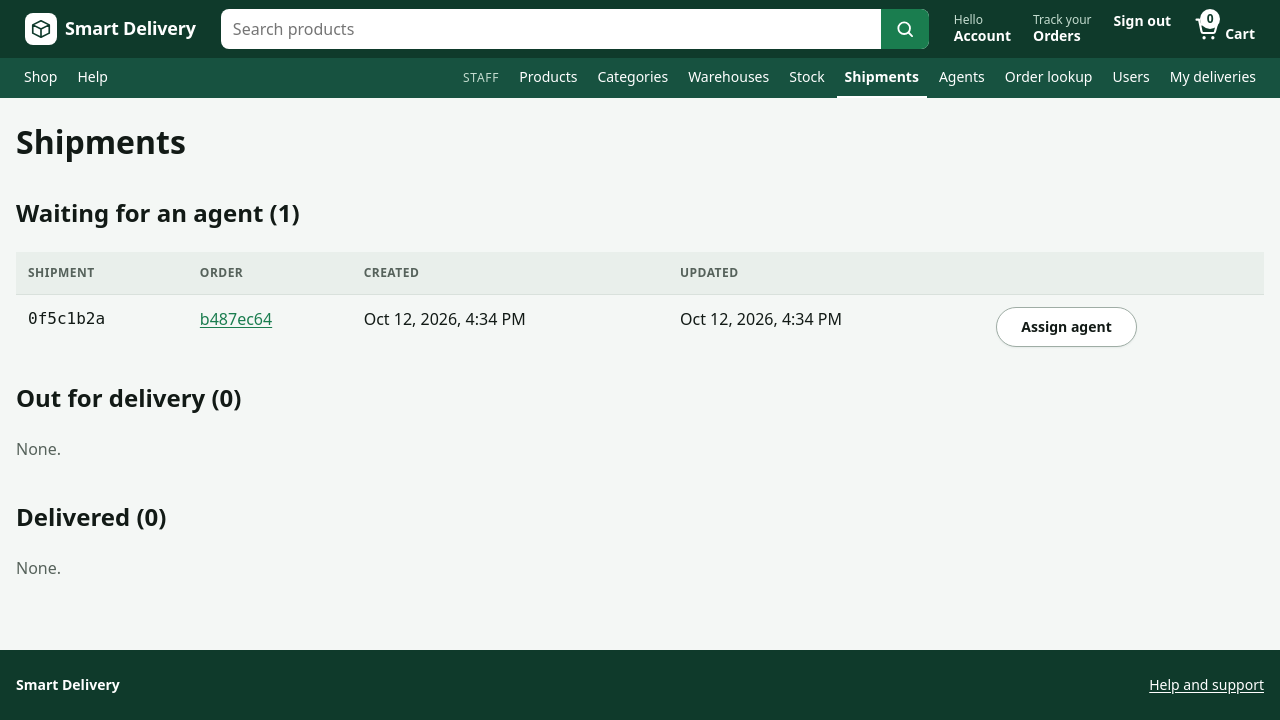
Test: shipments › says so specifically when the shipment was already assigned
Click the button "Assign agent".
click(1067, 327)  # box [996,307,1137,347]
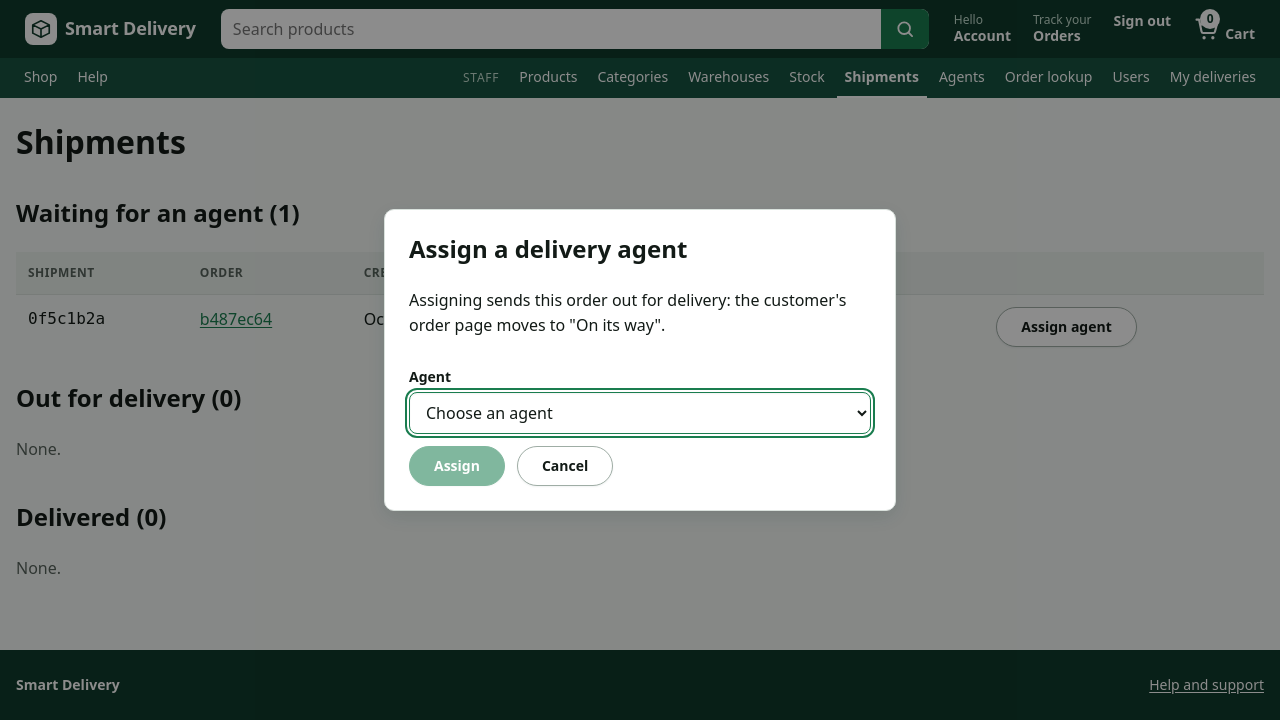
Select "Ada Courier (+15550111)" in the dropdown labelled "Agent" at [640, 413], box [409,392,871,434]
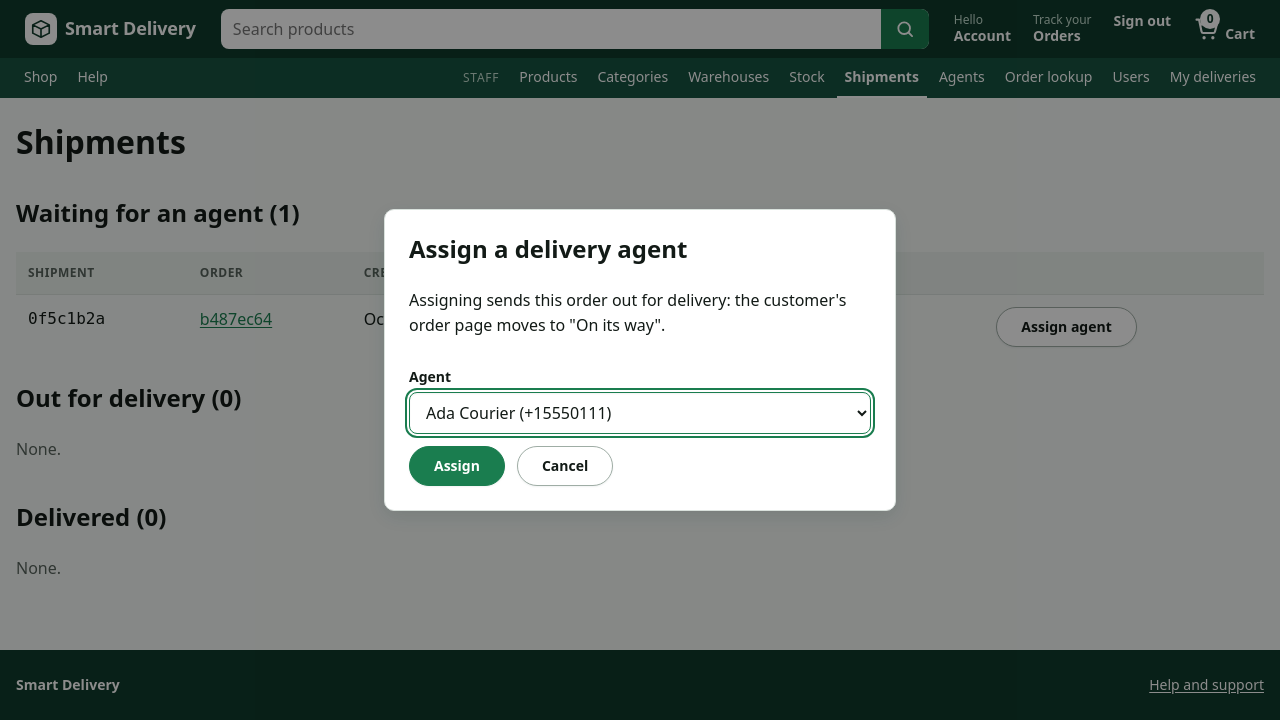
Click the button "Assign".
click(457, 466)  # box [409,446,505,486]
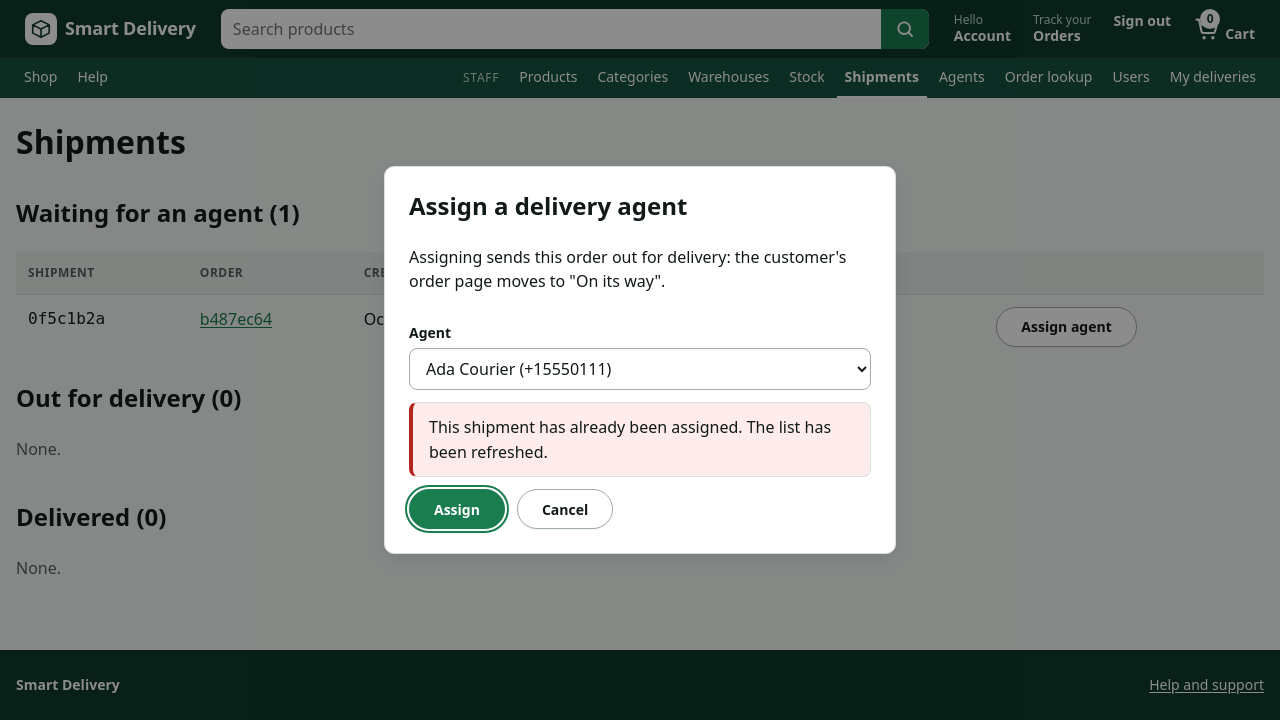
Expected: the text "This shipment has already been assigned. The list has been refreshed." is shown, [409,402,871,477]
